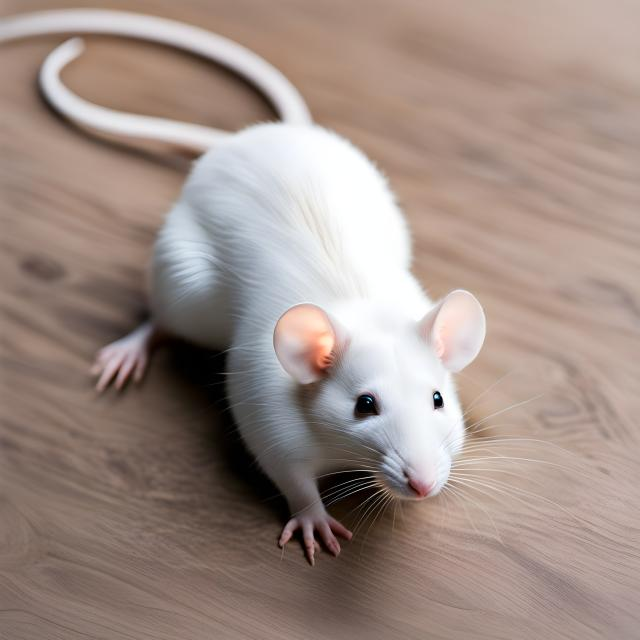rodents: (138, 92, 497, 550)
